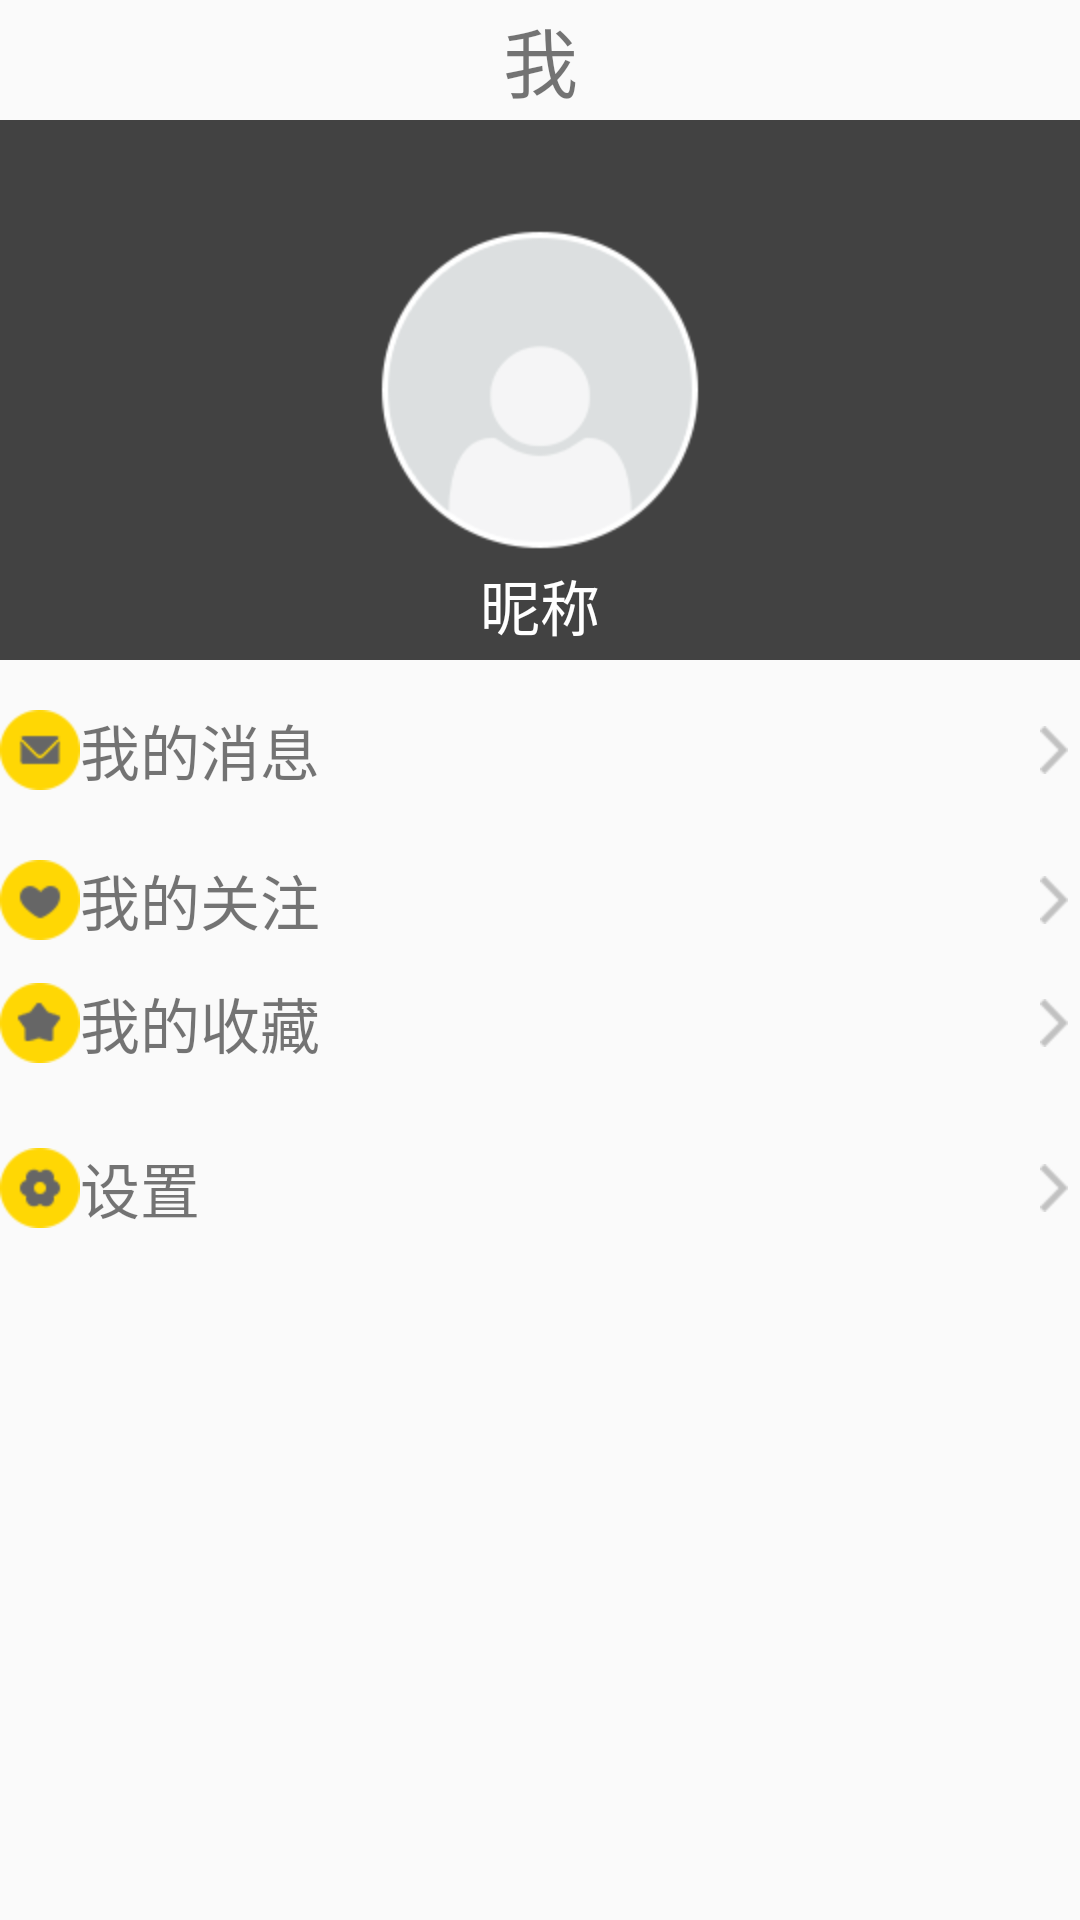

Icons on this 1080*1920 Android screen, each with the point to tap as [x,y]:
listitem next: [1054,750], [1054,900], [1054,1023], [1054,1188]
me item collection: [40,1023]
me item follow: [40,900]
me item message: [40,750]
me item setup: [40,1188]
personal headportrait: [540,390]
